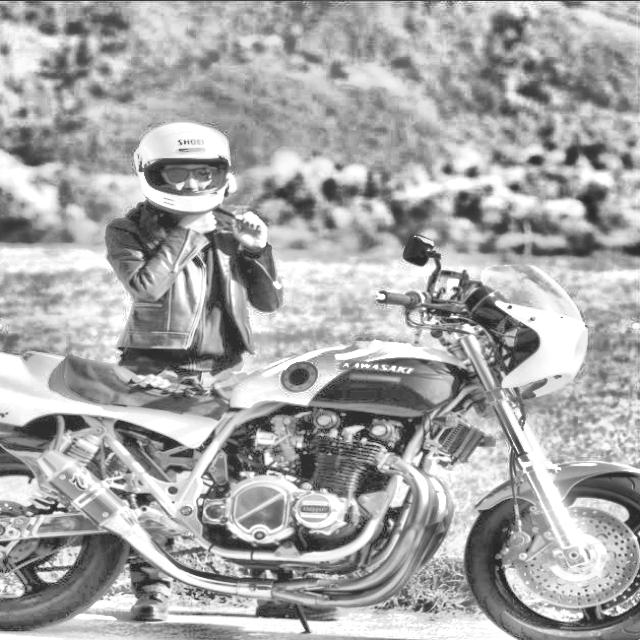Helmet: (130, 119, 237, 218)
